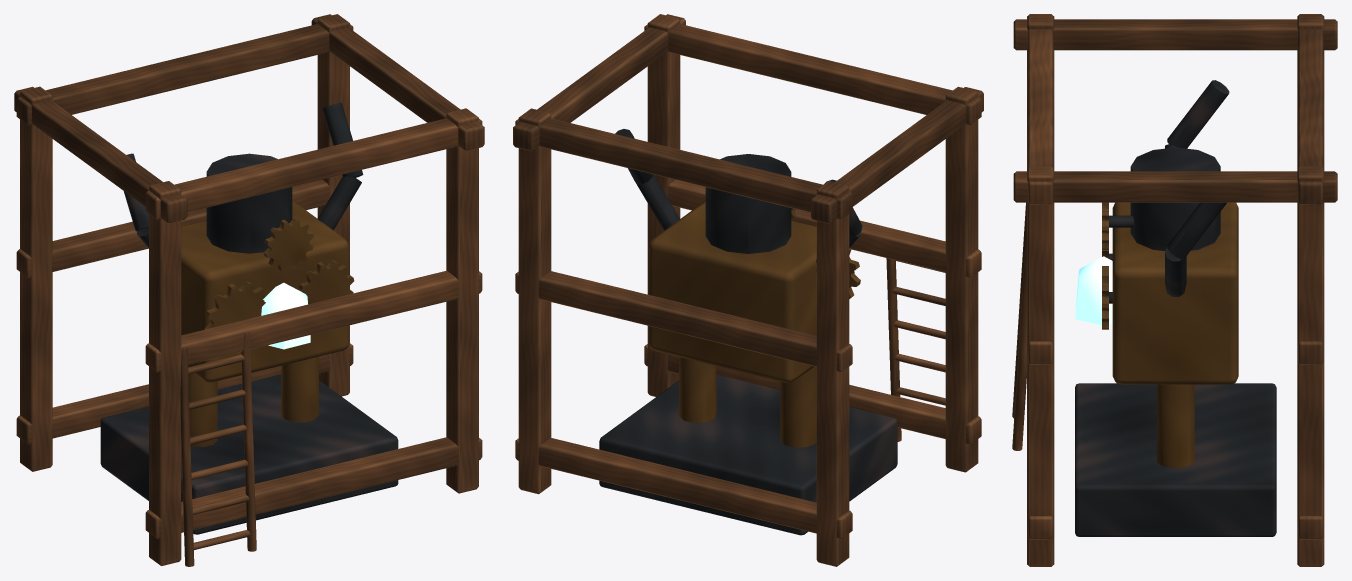
File: Furn_Tool_BigMachine.fbx
3 renders of one model, left to right at view 1: azimuth 30°, elevation 25°; view 2: azimuth 150°, elevation 25°; view 3: azimuth 270°, elevation 25°, orthographic. The views are drawn at different scales.
Parts seen in each view (by area): view 1: Furn_Tool_BigMachine; view 2: Furn_Tool_BigMachine; view 3: Furn_Tool_BigMachine.
Part boxes in pixels (x1,y1,x2,y2): Furn_Tool_BigMachine: (14, 14, 484, 566); Furn_Tool_BigMachine: (513, 14, 983, 566); Furn_Tool_BigMachine: (1012, 14, 1337, 566).
Size of the model in its own units: 2.2 by 2.4 by 1.81.
4 materials, 3 textured.
